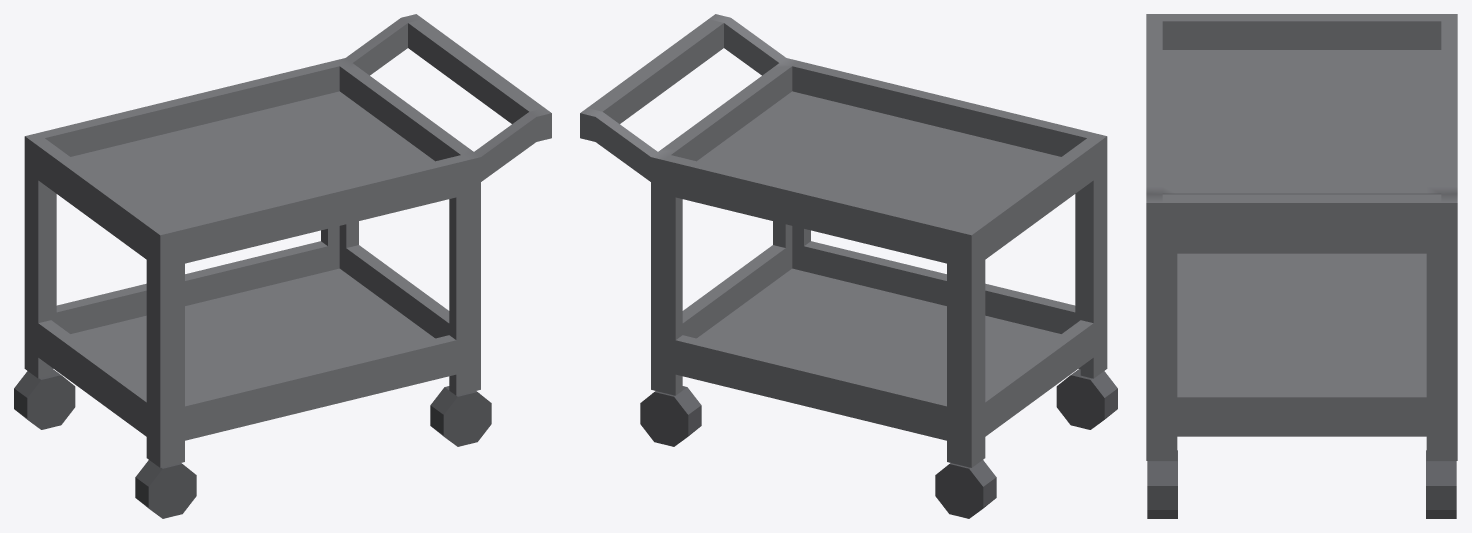
Rendered from rolling-cart.fbx.
The picture shows the model from 3 angles, left to right: view 1: azimuth 30°, elevation 25°; view 2: azimuth 150°, elevation 25°; view 3: azimuth 270°, elevation 25°; orthographic projection. The views are drawn at different scales.
Visible parts, largest first — view 1: rolling_cart; view 2: rolling_cart; view 3: rolling_cart.
Boxes of the visible parts, x1,y1,x2,y2 form: rolling_cart: [14, 14, 551, 518]; rolling_cart: [580, 14, 1117, 518]; rolling_cart: [1146, 14, 1457, 518].
Bounding box in the file's own units: 134 × 99.2 × 78.24.
